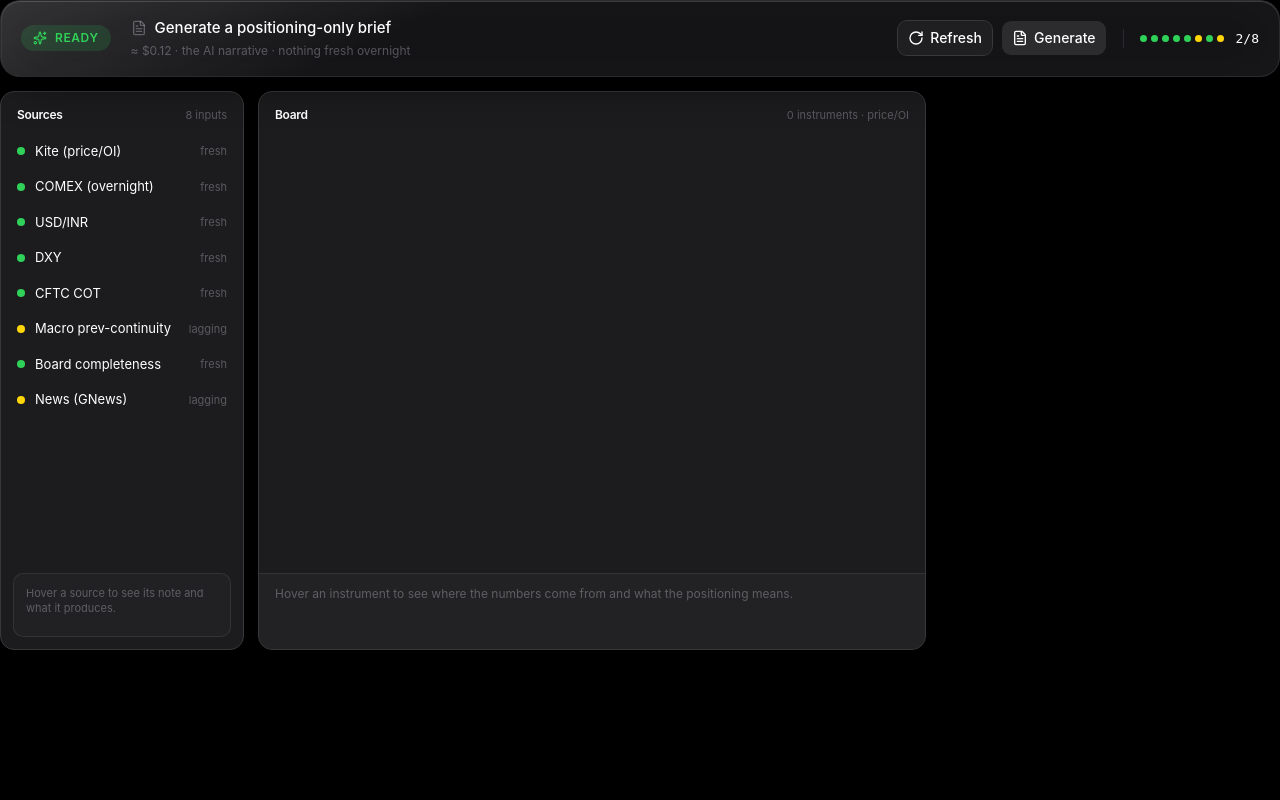
Test: ReadinessScreen — filtered per-dot refresh (FIN-192) › a filtered response with SKIPPED legs lands as success — skipped legs are not shown as failed
This screenshot has width=1280, height=800.
Step 1. Click the button "News (GNews) lagging" → (122, 400), box [7,382,237,418]
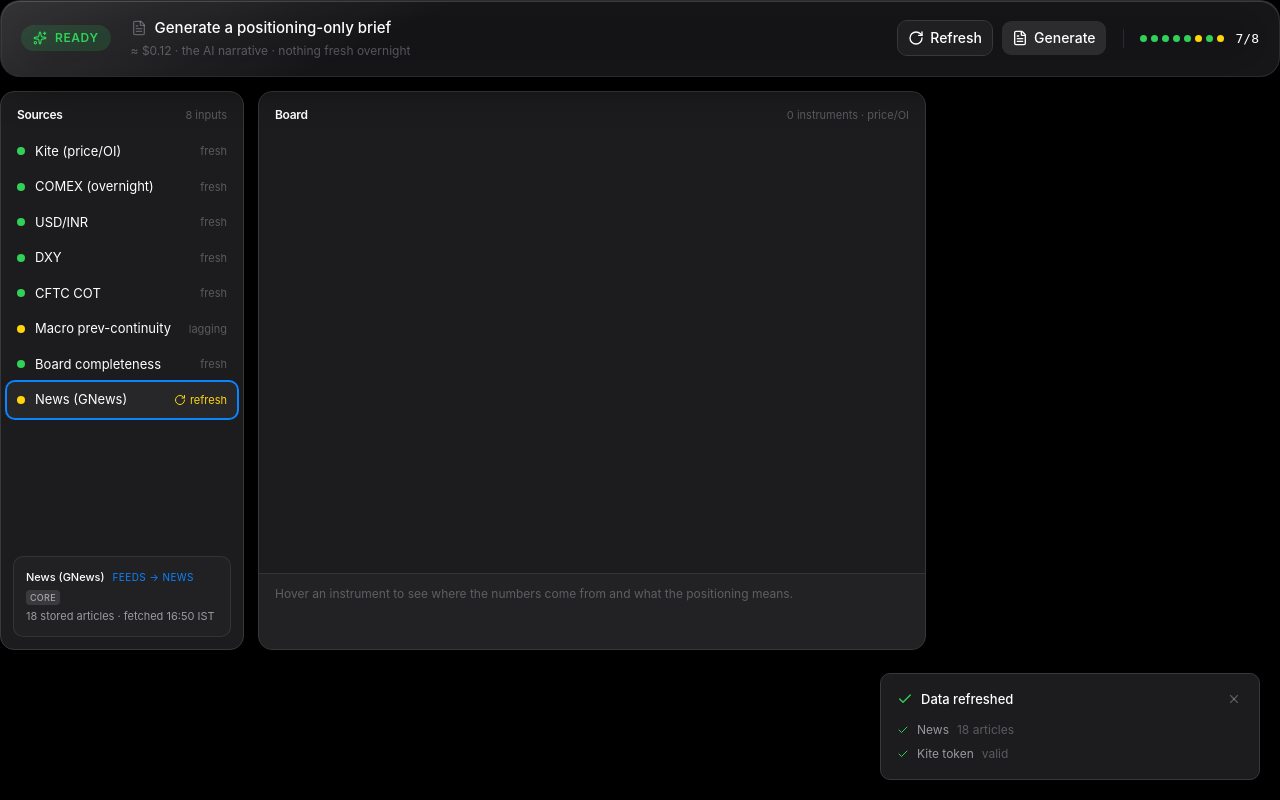
Result: the text "Data refreshed" is shown at [921,690,1013,709]
